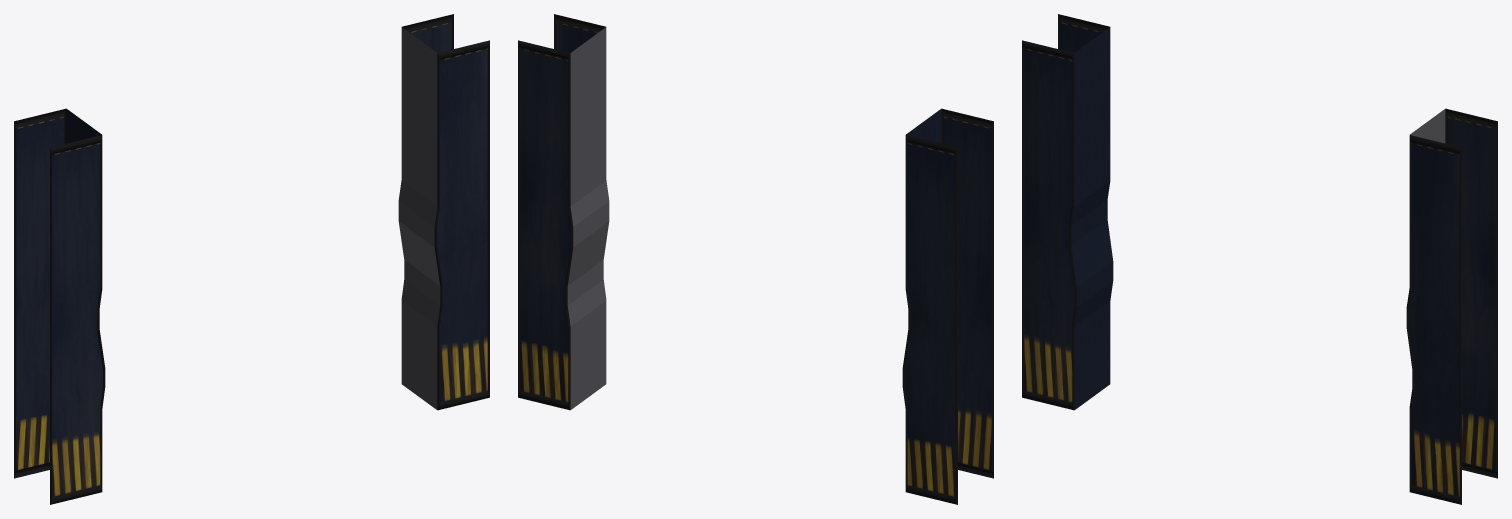
Rendered from door-normal_000008.obj.
The picture shows the model from 3 angles, left to right: view 1: azimuth 30°, elevation 25°; view 2: azimuth 150°, elevation 25°; view 3: azimuth 330°, elevation 25°; orthographic projection.
Parts seen in each view (by area): view 1: Door.Left_Cube.007, Door.Right_Cube.006; view 2: Door.Left_Cube.007, Door.Right_Cube.006; view 3: Door.Left_Cube.007, Door.Right_Cube.006.
Part boxes in pixels (box(x1,y1,x2,y2)): Door.Left_Cube.007: box(398, 14, 489, 410); Door.Right_Cube.006: box(14, 108, 105, 504); Door.Left_Cube.007: box(518, 14, 609, 410); Door.Right_Cube.006: box(902, 108, 993, 504); Door.Left_Cube.007: box(1406, 108, 1497, 504); Door.Right_Cube.006: box(1022, 14, 1113, 410).
Size of the model in its own units: 6.77 by 5.26 by 0.9998.
6 materials, 6 textured.
